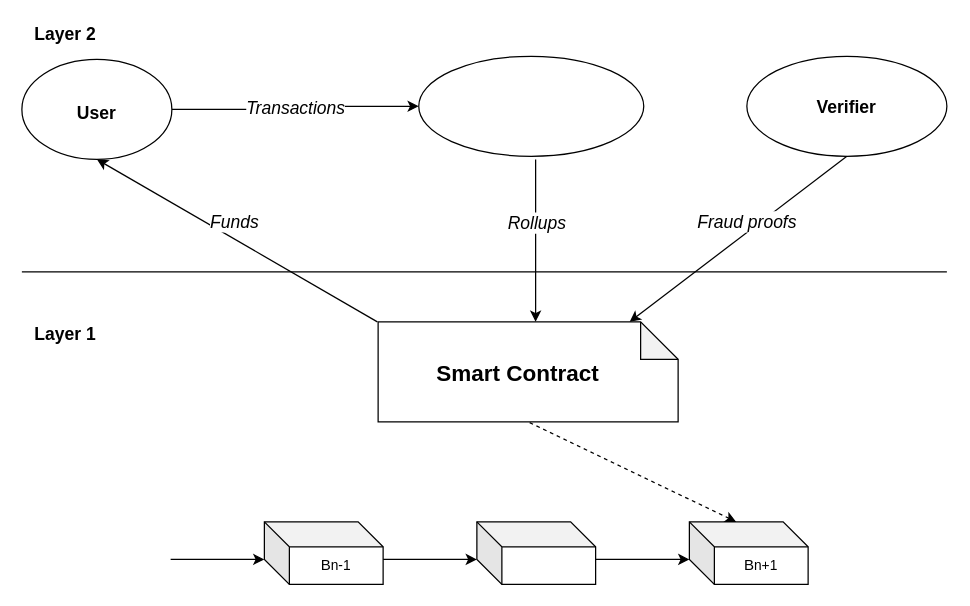
The diagram is 970 pixels wide and 606 high, and some of its shapes have lost their labels. Each missing label, with the centre of its shape:
"Aggregator" goes at [531,105].
"B n" goes at [536,552].
